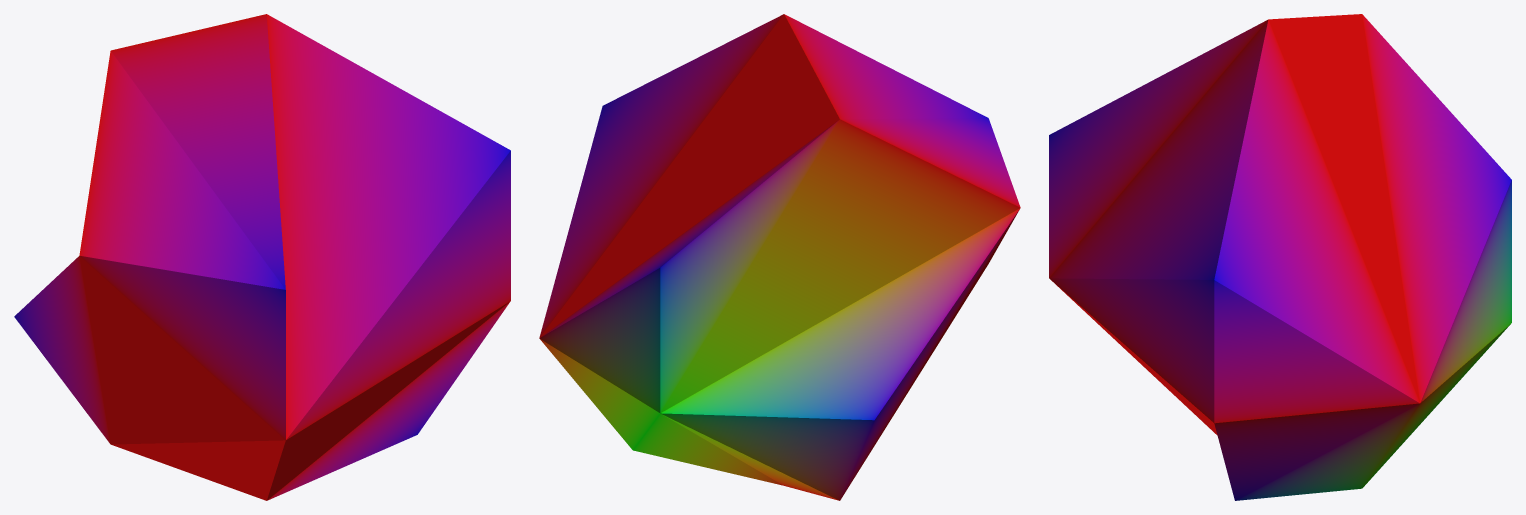
The model's file is after_decimating_conquest_4_5.obj.
3 views of the same model, side by side, from view 1: azimuth 30°, elevation 25°; view 2: azimuth 150°, elevation 25°; view 3: azimuth 270°, elevation 25° (orthographic). The views are drawn at different scales.
Bounding box in the file's own units: 1.85 × 2 × 1.81.
